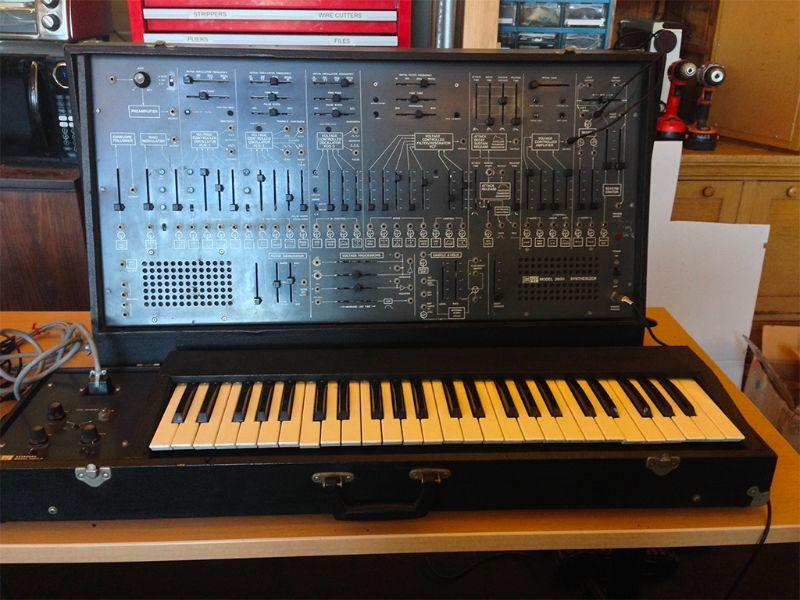synthesizer: (36, 55, 779, 526)
